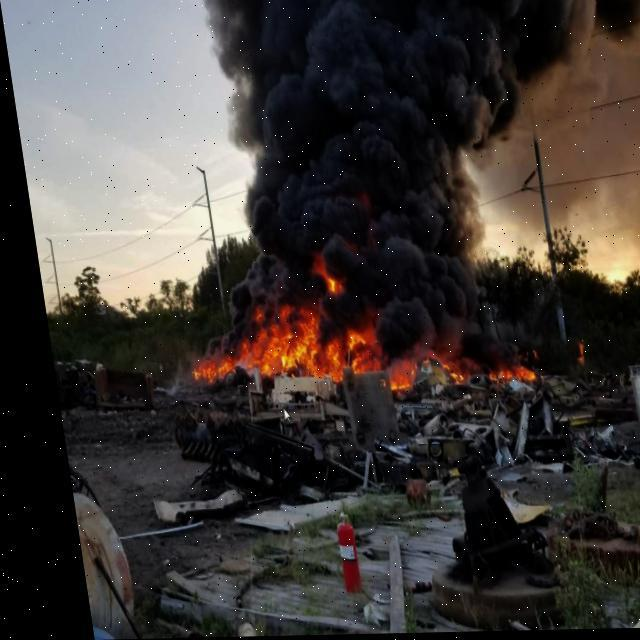Fire: (160, 290, 548, 406), (297, 249, 349, 306), (563, 347, 576, 368)
